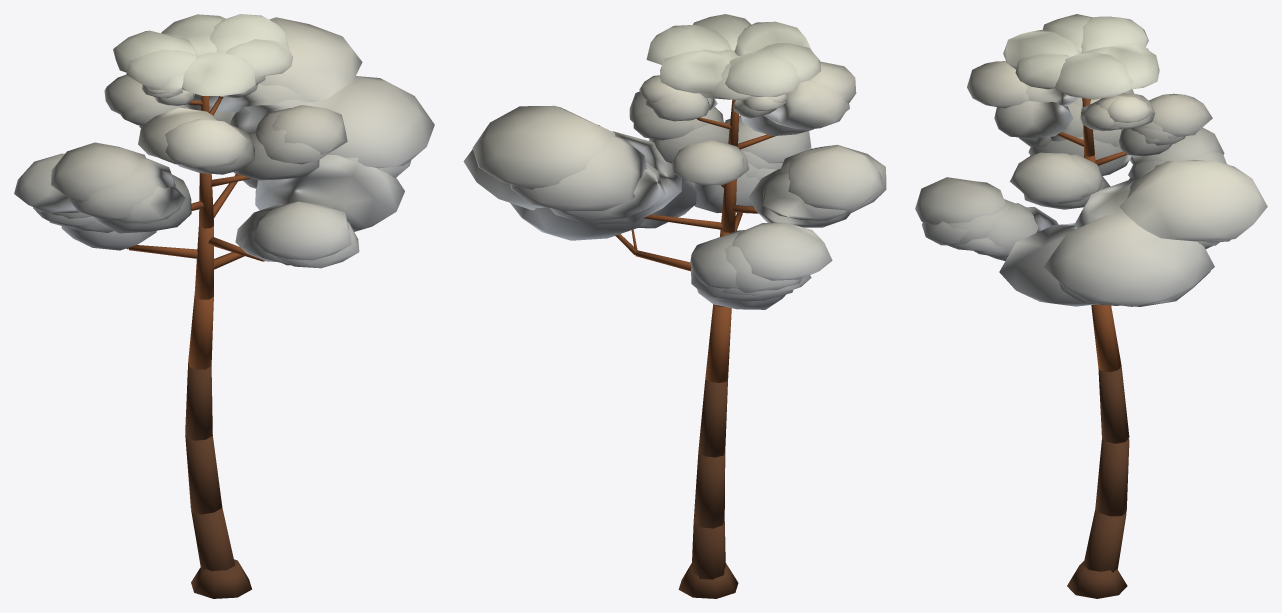
3 views of the same model, side by side, from view 1: azimuth 30°, elevation 25°; view 2: azimuth 150°, elevation 25°; view 3: azimuth 270°, elevation 25° (orthographic). The views are drawn at different scales.
Parts seen in each view (by area): view 1: crown, trunk.001, trunk2; view 2: crown, trunk.001, trunk2; view 3: crown, trunk.001, trunk2.
Part boxes in pixels (box(x1,y1,x2,y2)): crown: box(14, 14, 434, 268); trunk.001: box(185, 362, 251, 598); trunk2: box(126, 95, 265, 369); crown: box(463, 14, 886, 309); trunk.001: box(678, 379, 738, 598); trunk2: box(615, 100, 775, 382); crown: box(915, 14, 1267, 306); trunk.001: box(1067, 366, 1129, 598); trunk2: box(1057, 98, 1126, 372).
Size of the model in its own units: 17.78 by 24.81 by 14.68.
